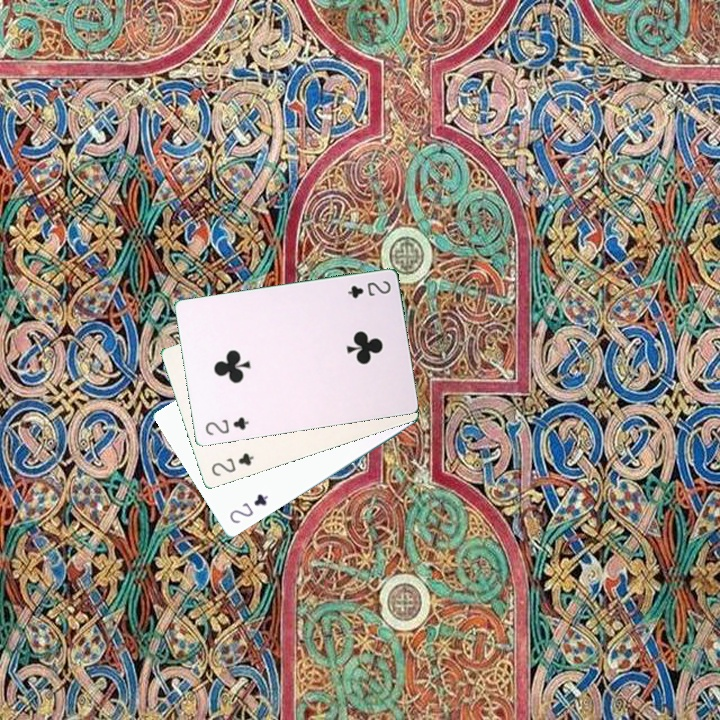2c: (225, 490, 270, 526), (207, 449, 256, 479), (201, 413, 252, 438), (343, 276, 393, 301)
